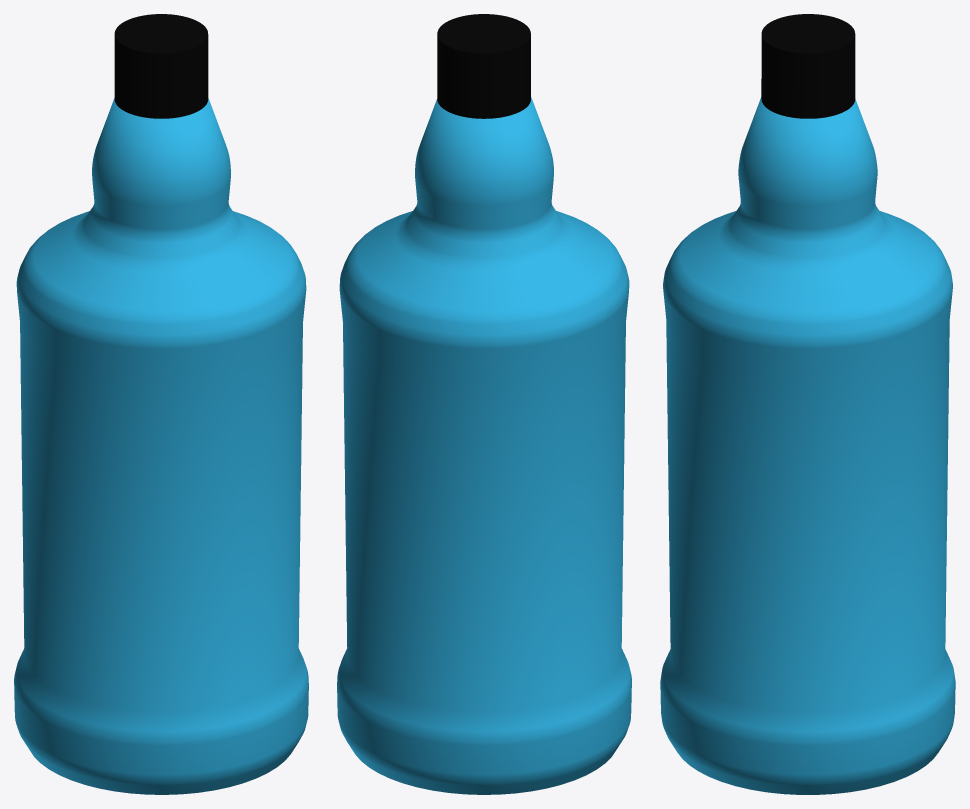
File: Botella_Vodka.fbx
The picture shows the model from 3 angles, left to right: view 1: azimuth 30°, elevation 25°; view 2: azimuth 150°, elevation 25°; view 3: azimuth 270°, elevation 25°; orthographic projection.
Parts seen in each view (by area): view 1: Botella3.001, Tapon; view 2: Botella3.001, Tapon; view 3: Botella3.001, Tapon.
Part boxes in pixels (left/top/right/bottom): Botella3.001: left=14, top=98, right=308, bottom=794; Tapon: left=114, top=14, right=208, bottom=118; Botella3.001: left=337, top=97, right=631, bottom=794; Tapon: left=437, top=14, right=530, bottom=118; Botella3.001: left=660, top=97, right=955, bottom=794; Tapon: left=761, top=14, right=855, bottom=118.
Size of the model in its own units: 8.81 by 23.6 by 8.83.
